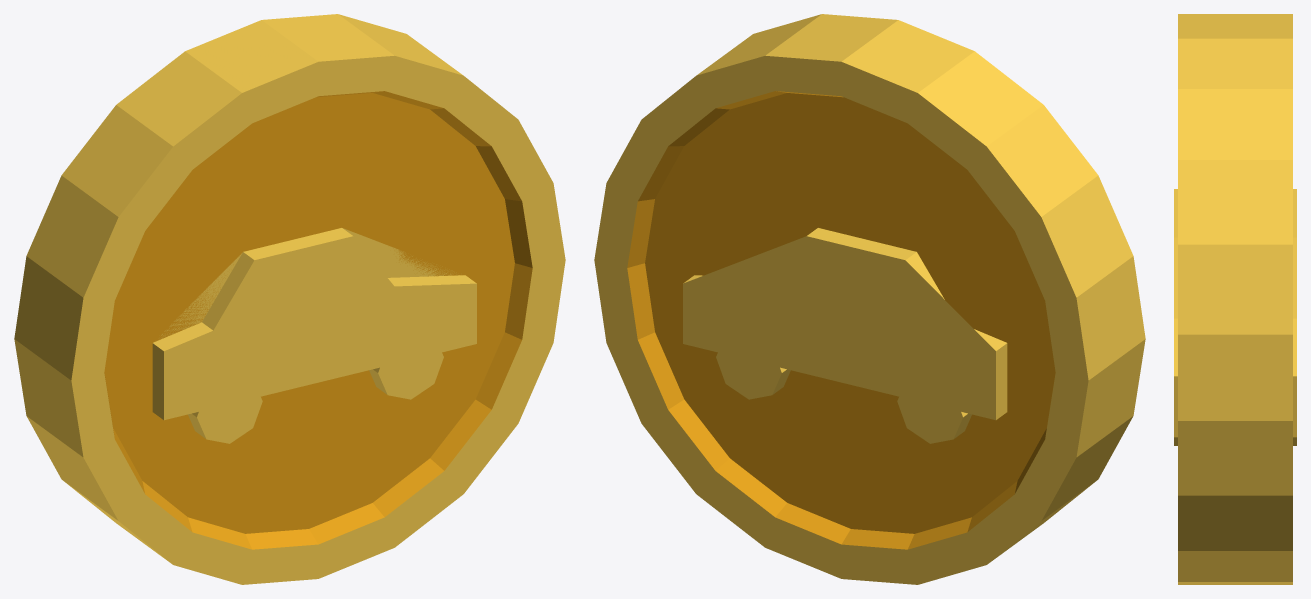
Rendered from Coin.fbx.
3 views of the same model, side by side, from view 1: azimuth 30°, elevation 25°; view 2: azimuth 150°, elevation 25°; view 3: azimuth 270°, elevation 25° (orthographic).
Parts seen in each view (by area): view 1: Coin; view 2: Coin; view 3: Coin.
Part boxes in pixels (left/top/right/bottom): Coin: left=14, top=14, right=565, bottom=584; Coin: left=594, top=14, right=1145, bottom=584; Coin: left=1174, top=14, right=1296, bottom=584.
Bounding box in the file's own units: 3 × 3 × 0.64.
Materials: 1 (1 with a texture image).
